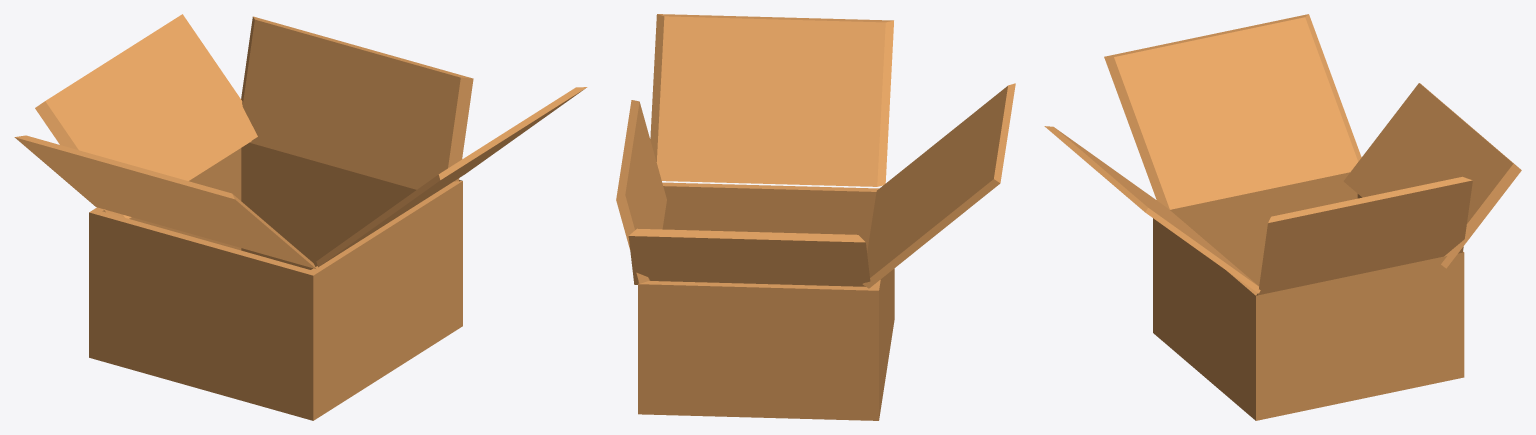
File: КОРОБКА2.fbx
3 views of the same model, side by side, from view 1: azimuth 30°, elevation 25°; view 2: azimuth 150°, elevation 25°; view 3: azimuth 270°, elevation 25° (orthographic). The views are drawn at different scales.
Visible parts, largest first — view 1: Куб.047, Куб.046, Куб.044, Куб.045; view 2: Куб.047, Куб.045, Куб.046, Куб.044; view 3: Куб.046, Куб.047, Куб.044, Куб.045.
Part boxes in pixels (x1,y1,x2,y2): Куб.047: [89, 142, 462, 420]; Куб.046: [14, 16, 473, 268]; Куб.044: [35, 14, 257, 218]; Куб.045: [316, 87, 587, 267]; Куб.047: [638, 182, 894, 420]; Куб.045: [650, 14, 893, 186]; Куб.046: [616, 83, 1015, 288]; Куб.044: [628, 228, 870, 286]; Куб.046: [1104, 14, 1472, 295]; Куб.047: [1153, 172, 1464, 420]; Куб.044: [1343, 83, 1521, 268]; Куб.045: [1044, 126, 1260, 293].
Size of the model in its own units: 132 by 71.7 by 132.
